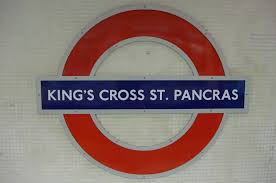London Underground: (39, 9, 245, 173)
